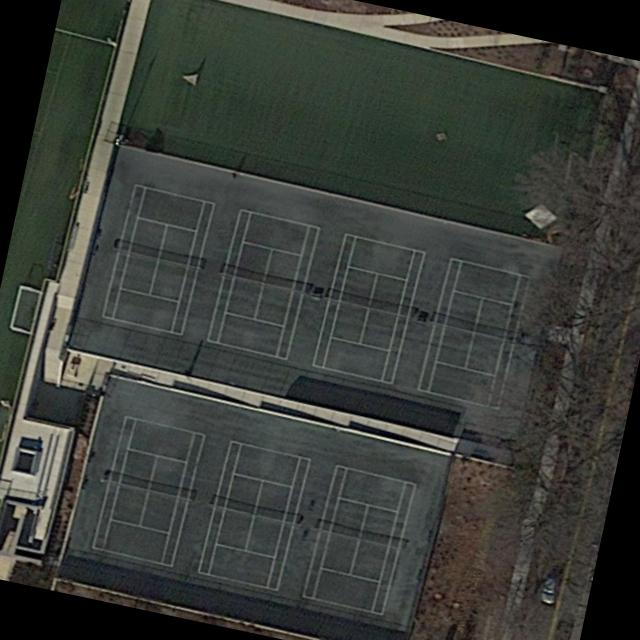small-vehicle: (538, 573, 563, 606), (552, 617, 579, 640)
